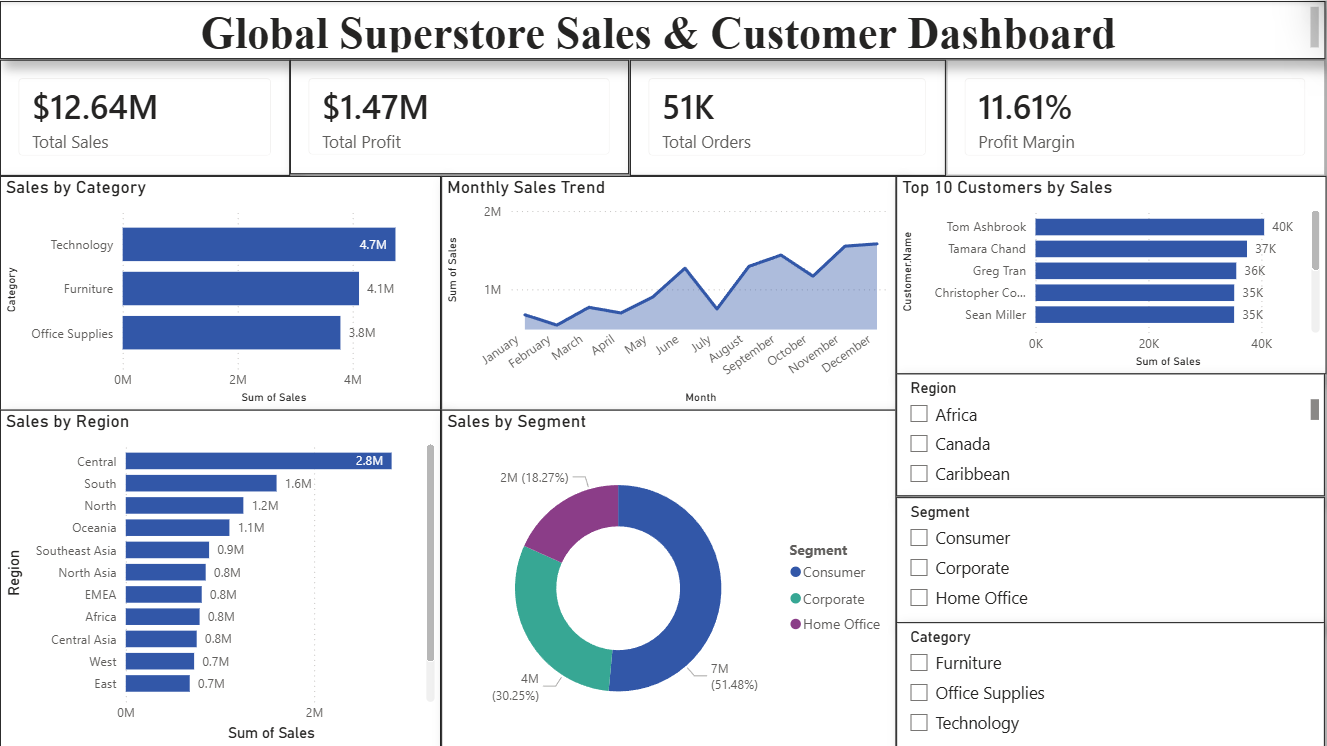

The page's visual inventory and layout, read from the dashboard file:
{"tool":"powerbi","page":{"name":"Page 1","canvas":[1280,720],"ordinal":0},"visuals":[{"type":"cardVisual","fields":{"Data":["Table1.Total Sales"]},"box":[0,56.6,280.3,111.9],"z":0},{"type":"cardVisual","fields":{"Data":["Table1.Total Profit"]},"box":[280.3,56.6,327.5,110.5],"z":1000},{"type":"cardVisual","fields":{"Data":["Table1.Total Orders"]},"box":[607.8,56.6,304.6,111.9],"z":2000},{"type":"cardVisual","fields":{"Data":["Table1.Profit Margin"]},"box":[913.7,56.6,365.2,111.9],"z":3000},{"type":"clusteredBarChart","title":"Sales by Category","fields":{"Category":["Table1.Category"],"Y":["Sum(Table1.Sales)"]},"box":[0,168.5,425.9,226.4],"z":4000},{"type":"lineChart","title":"Monthly Sales Trend","fields":{"Y":["Sum(Table1.Sales)"],"Category":["Table1.Order.Date.Variation.Date Hierarchy.Month"]},"box":[425.9,168.5,439.3,226.4],"z":5000},{"type":"clusteredBarChart","title":"Sales by Region","fields":{"Category":["Table1.Region"],"Y":["Sum(Table1.Sales)"]},"box":[0,394.9,425.9,326.1],"z":6000},{"type":"donutChart","title":"Sales by Segment","fields":{"Category":["Table1.Segment"],"Y":["Sum(Table1.Sales)"]},"box":[425.9,394.9,439.3,326.1],"z":7000},{"type":"clusteredBarChart","title":"Top 10 Customers by Sales","fields":{"Category":["Table1.Customer.Name"],"Y":["Sum(Table1.Sales)"]},"box":[865.2,168.5,415.1,191.4],"z":8000},{"type":"slicer","fields":{"Values":["Table1.Region"]},"box":[865.2,359.8,413.7,118.6],"z":9000},{"type":"slicer","fields":{"Values":["Table1.Segment"]},"box":[865.2,478.4,413.7,121.3],"z":10000},{"type":"slicer","fields":{"Values":["Table1.Category"]},"box":[865.2,599.7,413.7,121.3],"z":11000},{"type":"textbox","box":[0,0,1278.8,55.7],"z":12000}]}

Visuals, with their boxes in screenshot pixels (x1, y1, x2, y2), scaled from the page's 1280x720 canvas onto the 1327x746 screenshot:
cardVisual - Table1.Total Sales: Rect(0, 59, 291, 175)
cardVisual - Table1.Total Profit: Rect(291, 59, 630, 173)
cardVisual - Table1.Total Orders: Rect(630, 59, 946, 175)
cardVisual - Table1.Profit Margin: Rect(947, 59, 1326, 175)
"Sales by Category" clusteredBarChart: Rect(0, 175, 442, 409)
"Monthly Sales Trend" lineChart: Rect(442, 175, 897, 409)
"Sales by Region" clusteredBarChart: Rect(0, 409, 442, 745)
"Sales by Segment" donutChart: Rect(442, 409, 897, 745)
"Top 10 Customers by Sales" clusteredBarChart: Rect(897, 175, 1326, 373)
slicer - Table1.Region: Rect(897, 373, 1326, 496)
slicer - Table1.Segment: Rect(897, 496, 1326, 621)
slicer - Table1.Category: Rect(897, 621, 1326, 745)
textbox: Rect(0, 0, 1326, 58)
